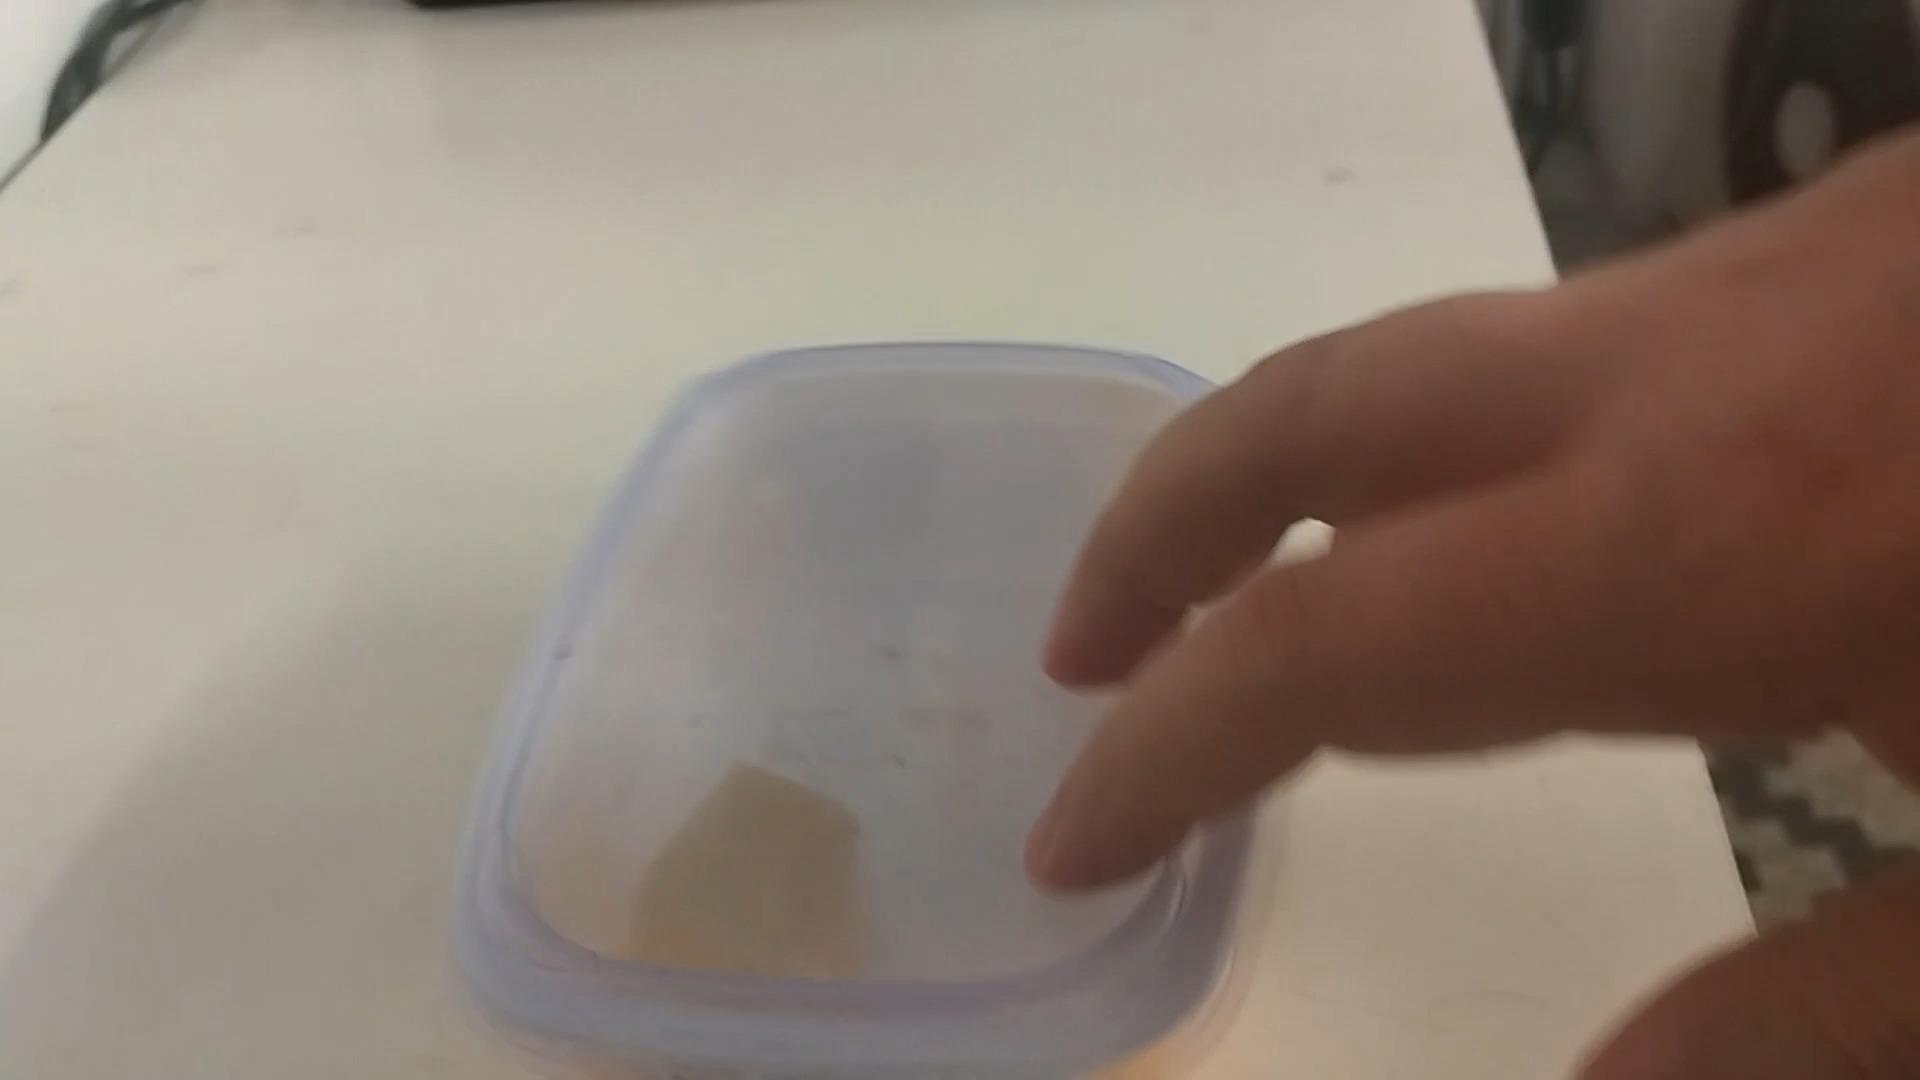butter: (458, 348, 1261, 1080)
